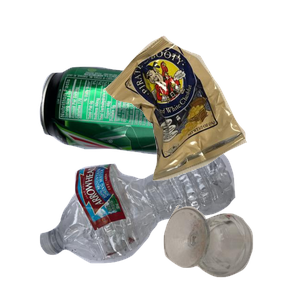glass: (161, 202, 300, 300)
metal: (37, 64, 245, 214)
plastic: (37, 144, 265, 300)
trash: (101, 33, 300, 206)
